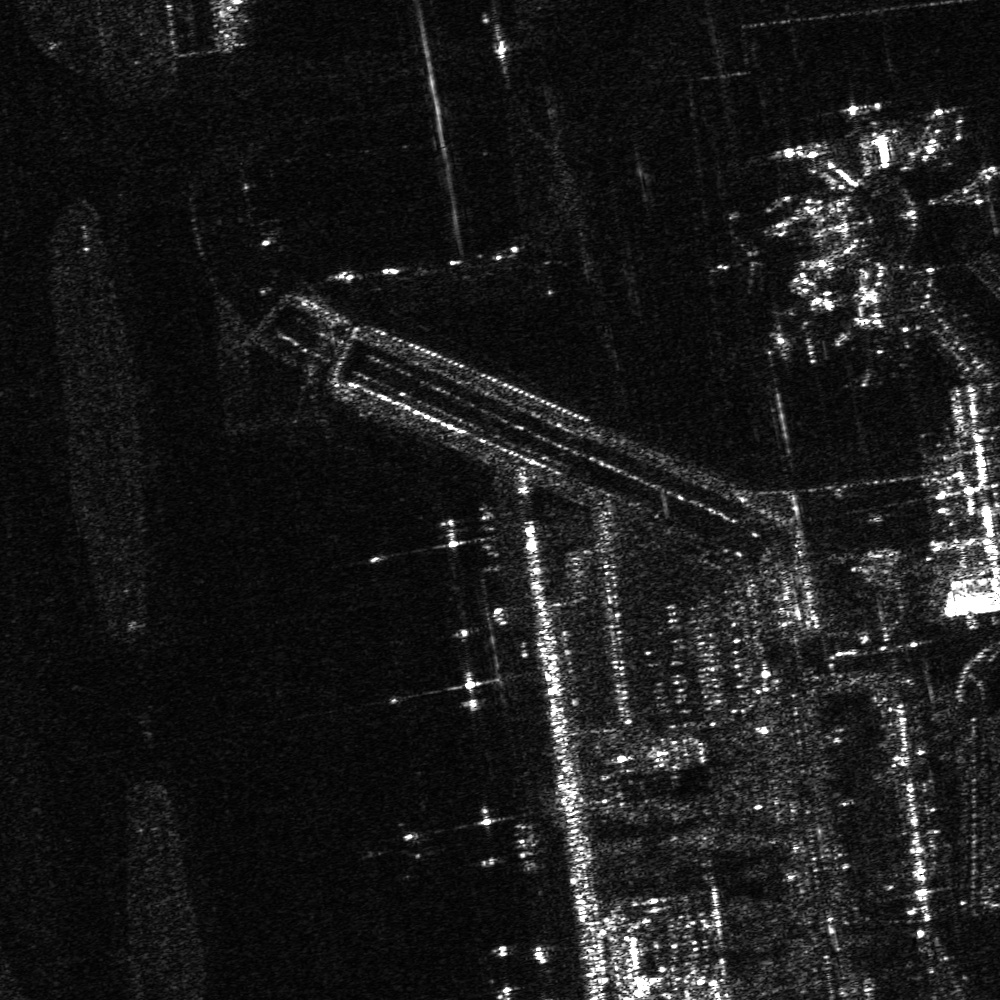A220: (704, 222, 774, 301)
